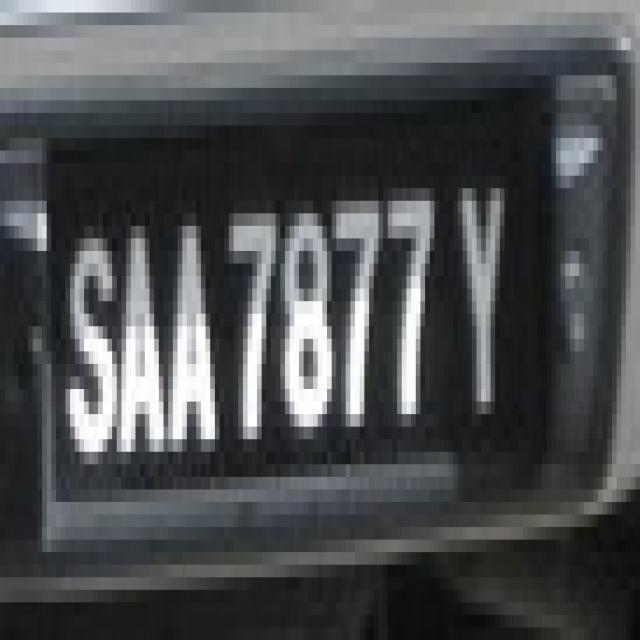LicensePlate: (35, 92, 572, 551)
